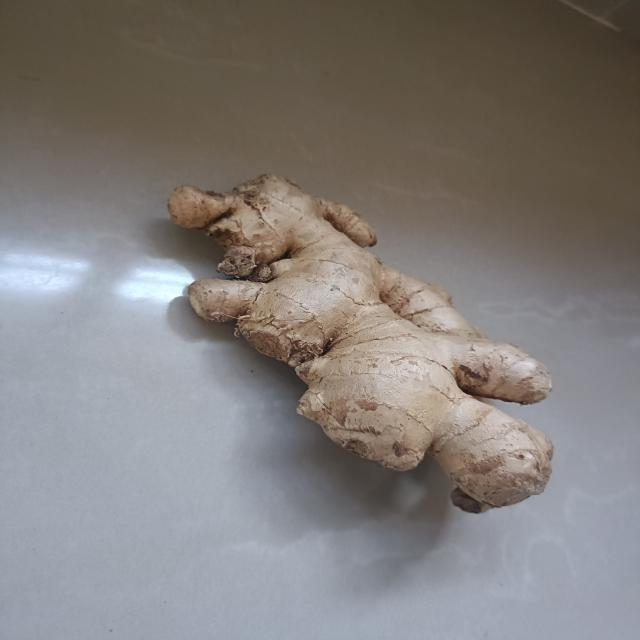ginger: (167, 174, 555, 513)
